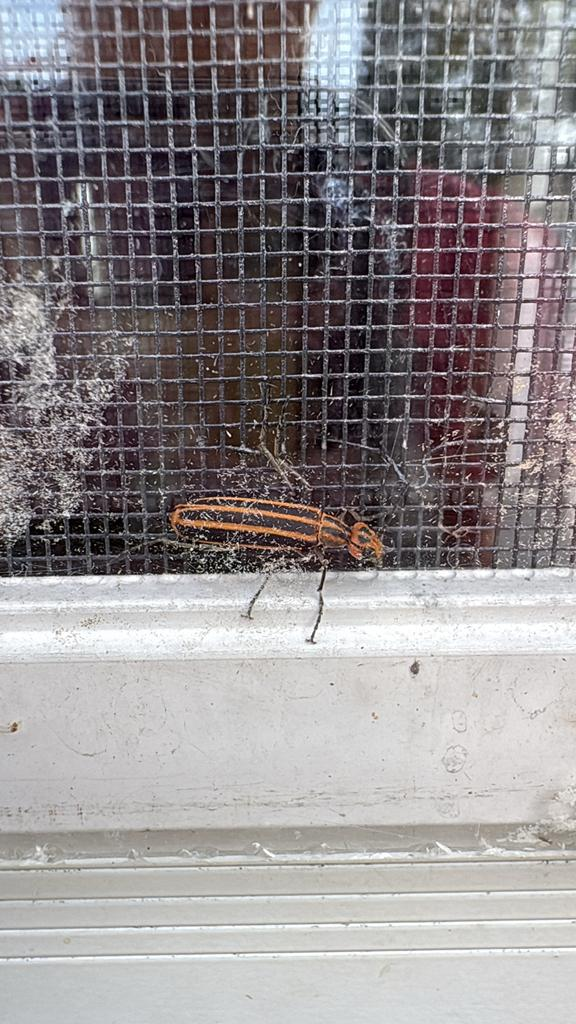blister_beetle: (136, 416, 431, 680)
